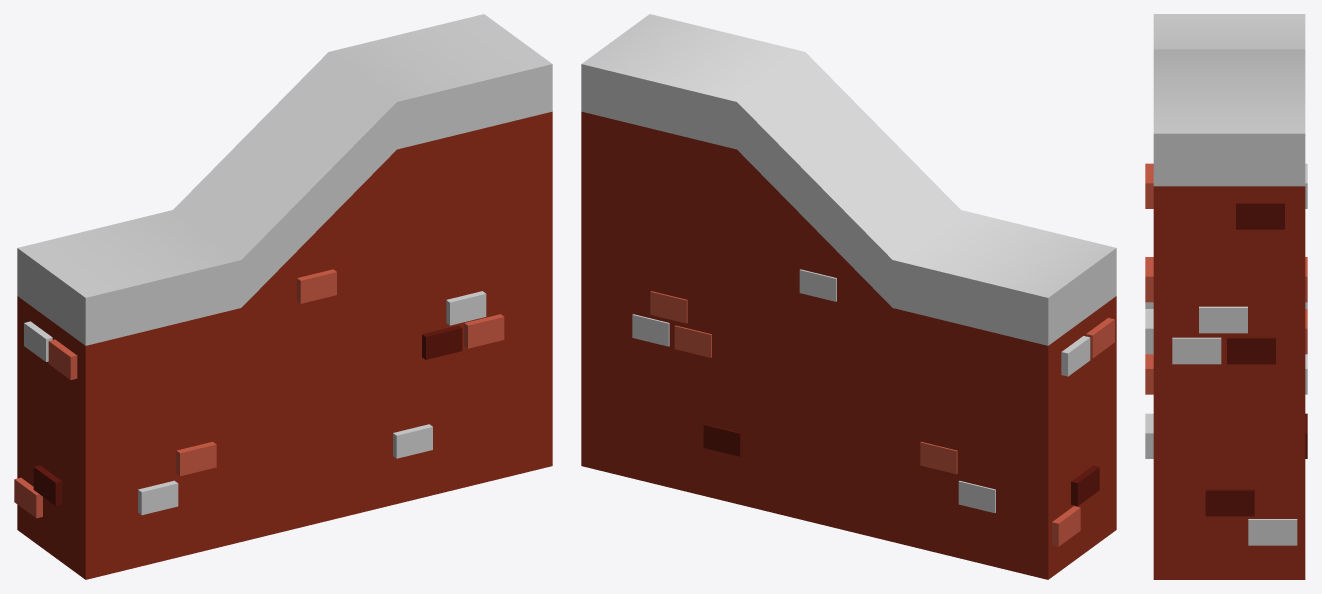
File: wall2.FBX
3 views of the same model, side by side, from view 1: azimuth 30°, elevation 25°; view 2: azimuth 150°, elevation 25°; view 3: azimuth 270°, elevation 25° (orthographic). The views are drawn at different scales.
Visible parts, largest first — view 1: Wall2; view 2: Wall2; view 3: Wall2.
Part boxes in pixels (left/top/right/bottom): Wall2: left=14, top=14, right=552, bottom=579; Wall2: left=581, top=14, right=1116, bottom=579; Wall2: left=1145, top=14, right=1307, bottom=579.
Bounding box in the file's own units: 70.61 × 57.03 × 18.79.
